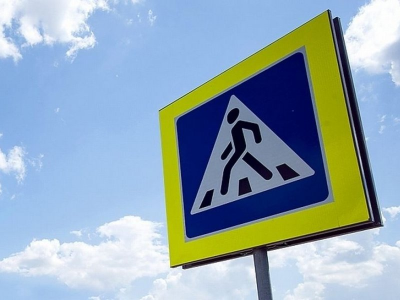crosswalk: (181, 92, 318, 214)
